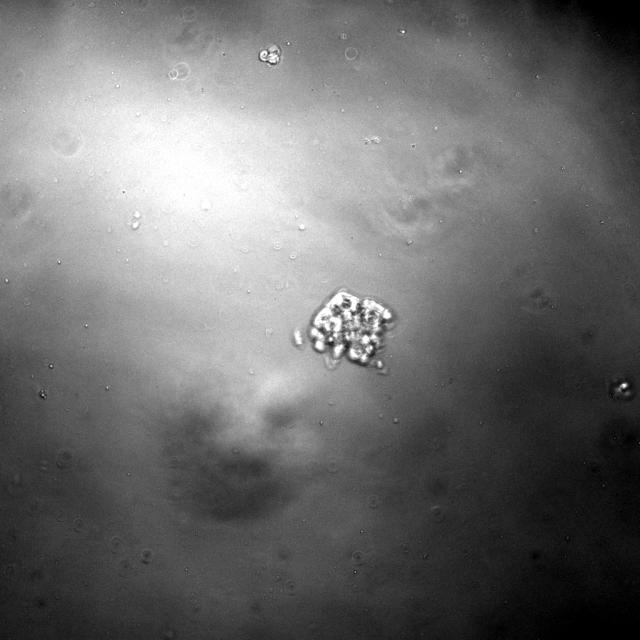organoid: (292, 288, 395, 373), (259, 44, 281, 66)
